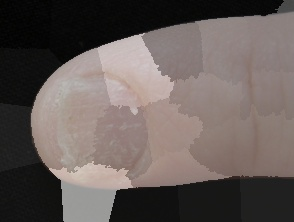Nail_psoriasis: (44, 71, 151, 191)
